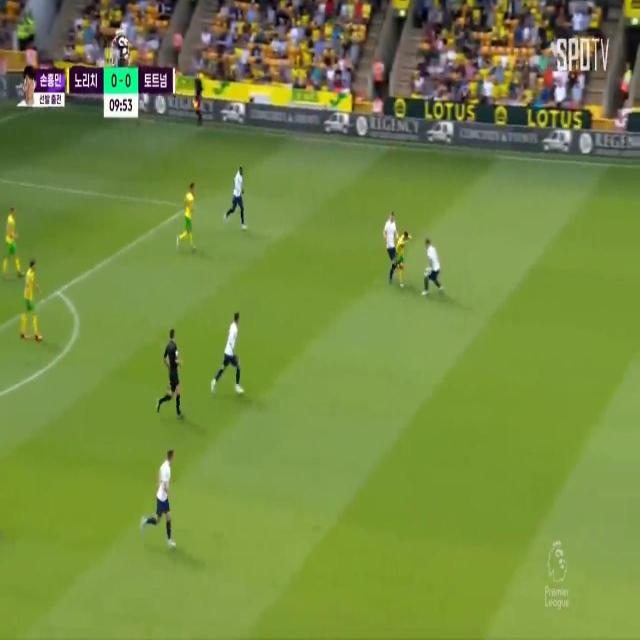player: (18, 257, 46, 339), (222, 306, 242, 396), (4, 201, 22, 291), (158, 444, 174, 545), (176, 181, 198, 247), (378, 208, 396, 286), (424, 231, 446, 291), (396, 228, 414, 288), (232, 162, 245, 228)
referee: (160, 328, 181, 416)
